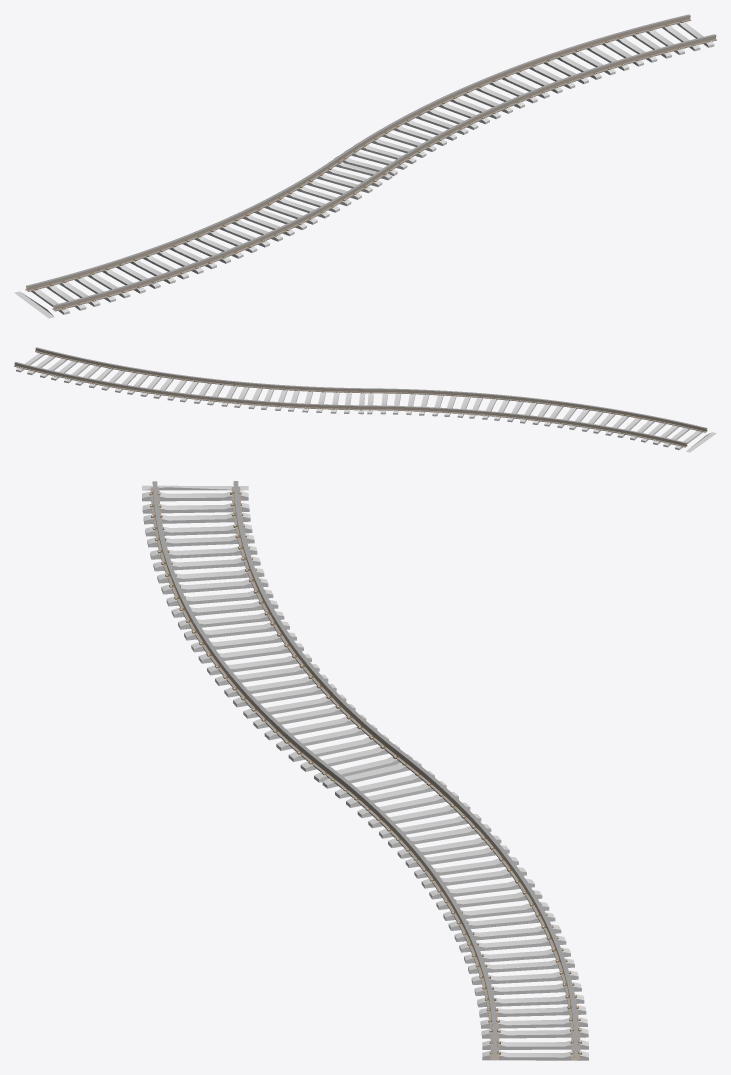
File: road5.fbx
The picture shows the model from 3 angles, top to bottom: view 1: azimuth 30°, elevation 25°; view 2: azimuth 150°, elevation 25°; view 3: azimuth 270°, elevation 25°; orthographic projection. The views are drawn at different scales.
Visible parts, largest first — view 1: Null_1_1; view 2: Null_1_1; view 3: Null_1_1.
Part boxes in pixels (left/top/right/bottom): Null_1_1: left=14, top=14, right=716, bottom=318; Null_1_1: left=14, top=347, right=716, bottom=452; Null_1_1: left=142, top=481, right=588, bottom=1060.
Size of the model in its own units: 5461 by 50.53 by 1782.
